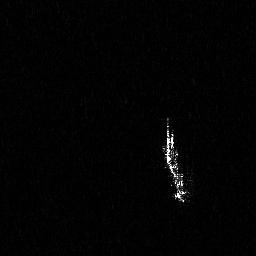ship: (160, 116, 193, 208)
